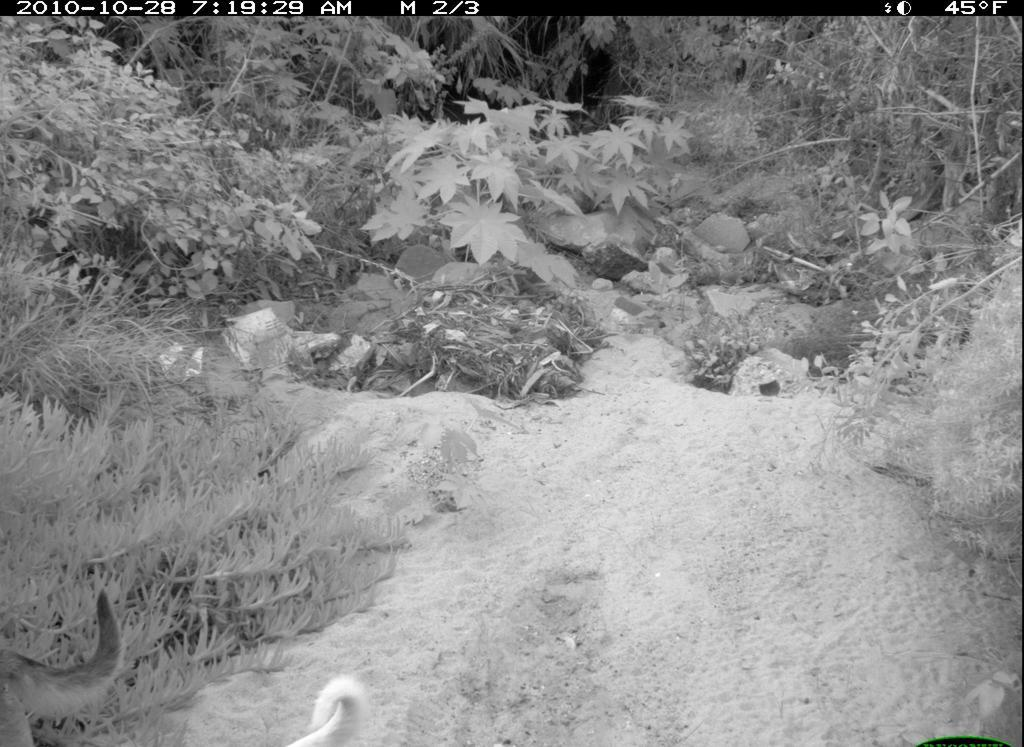dog: (2, 580, 141, 747), (274, 675, 378, 745)
